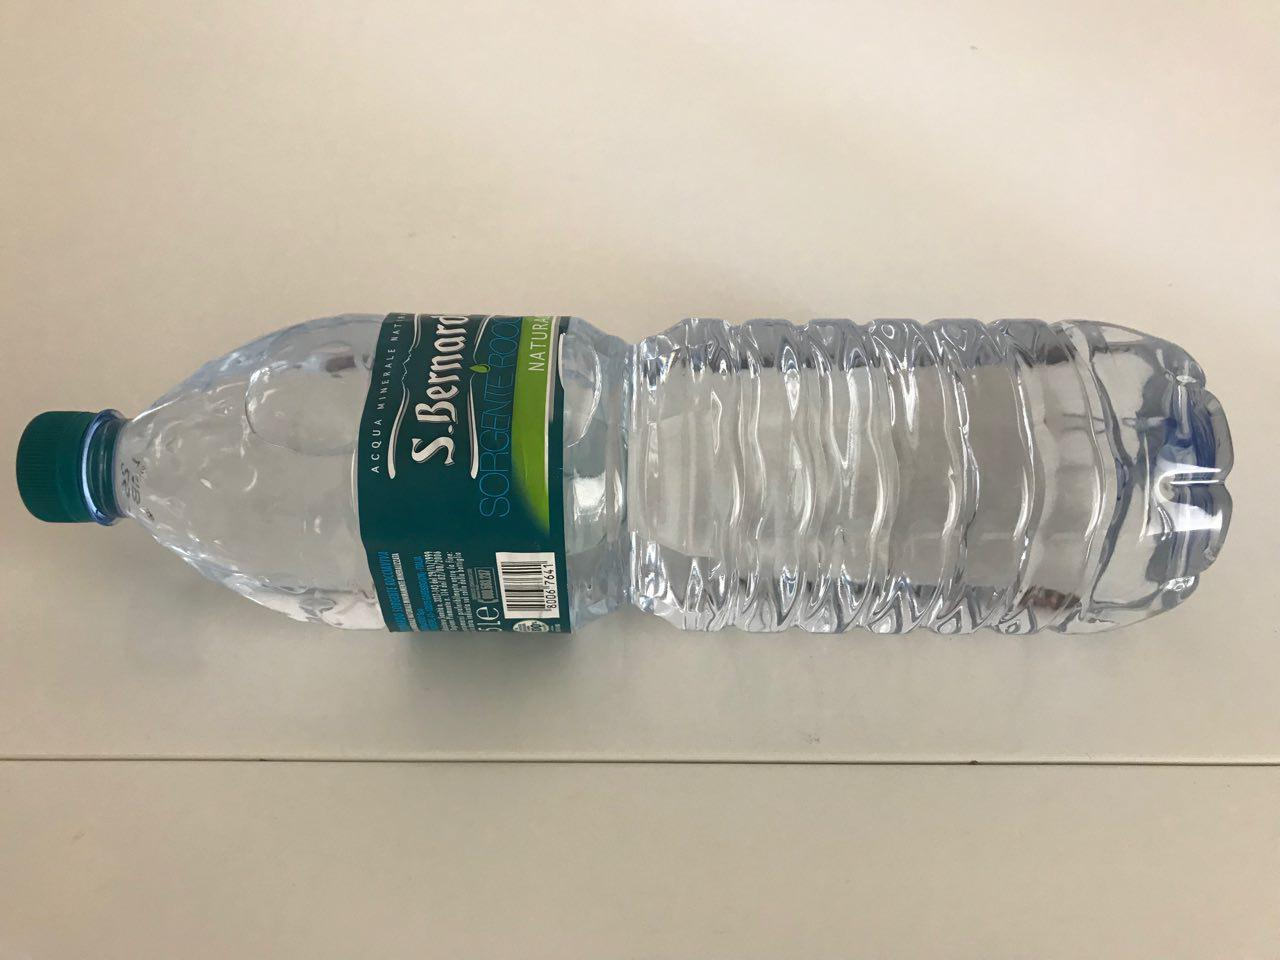san_bernardo: (13, 309, 1236, 639)
